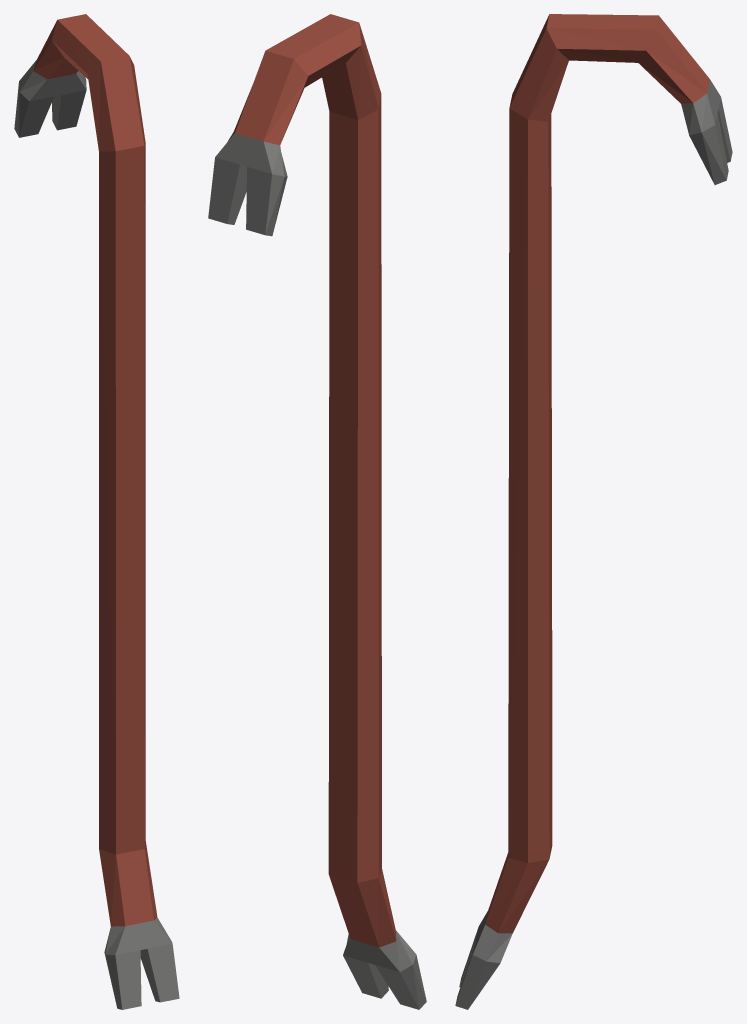
The model's file is crowbar.glb.
3 views of the same model, side by side, from view 1: azimuth 30°, elevation 25°; view 2: azimuth 150°, elevation 25°; view 3: azimuth 270°, elevation 25° (orthographic). The views are drawn at different scales.
Parts seen in each view (by area): view 1: Crowbar.001; view 2: Crowbar.001; view 3: Crowbar.001.
Part boxes in pixels (x1,y1,x2,y2): Crowbar.001: [14, 14, 179, 1009]; Crowbar.001: [208, 14, 426, 1009]; Crowbar.001: [455, 14, 732, 1009].
Bounding box in the file's own units: 0.0805 × 0.8974 × 0.2301.
Materials: 1 (1 with a texture image).
